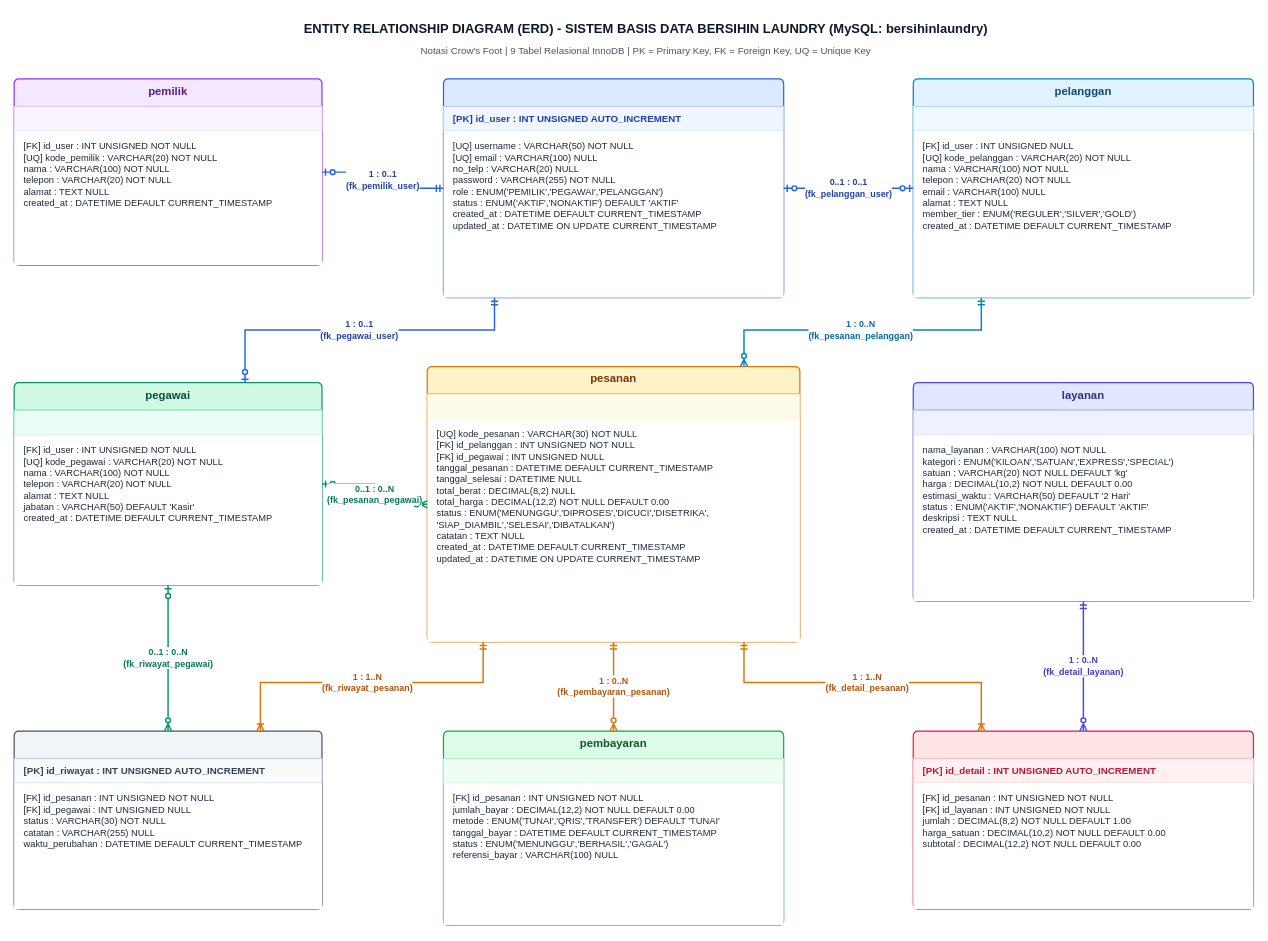
Image size: 1268x941. Some labels were removed from this diagram. The box of each missing label's shape, as (x1, y1, x2, y2) in pixels:
[PK] id_layanan : INT UNSIGNED AUTO_INCREMENT: (912, 409, 1253, 435)
[PK] id_pegawai : INT UNSIGNED AUTO_INCREMENT: (13, 409, 322, 435)
[PK] id_pelanggan : INT UNSIGNED AUTO_INCREMENT: (912, 106, 1253, 131)
[PK] id_pembayaran : INT UNSIGNED AUTO_INCREMENT: (443, 758, 784, 783)
[PK] id_pemilik : INT UNSIGNED AUTO_INCREMENT: (13, 106, 322, 131)
[PK] id_pesanan : INT UNSIGNED AUTO_INCREMENT: (426, 393, 800, 418)
detail_pesanan: (912, 730, 1254, 909)
riwayat_status: (13, 730, 322, 909)
users: (443, 78, 784, 298)
